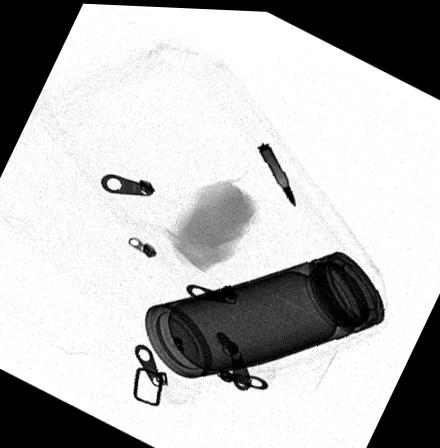Bullet: (256, 139, 297, 204)
